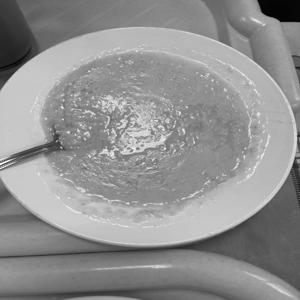porridge: (3, 33, 274, 225)
